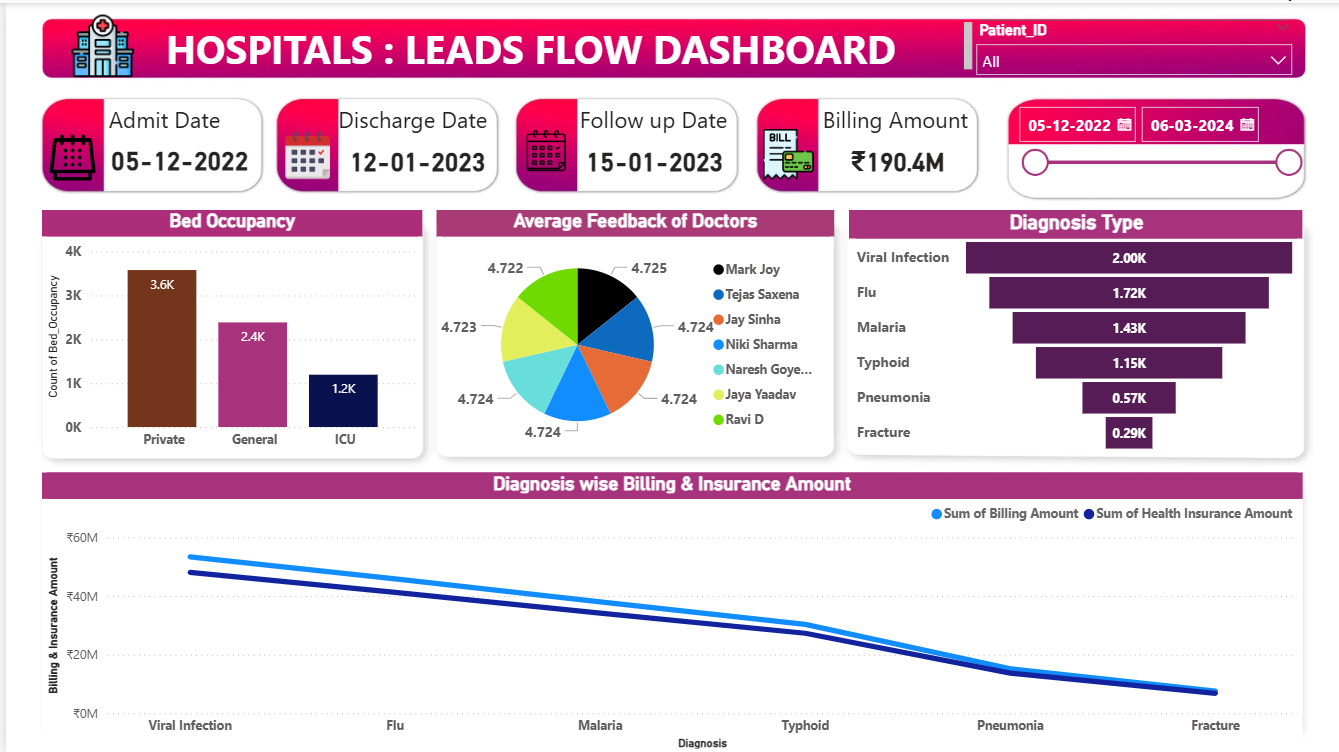

The dashboard page shown, as its layout file describes it:
{"tool":"powerbi","page":{"name":"HEALTHCARE","canvas":[1280,720],"ordinal":0},"visuals":[{"type":"card","fields":{"Values":["Sheet1.Admit_Date"]},"box":[93.9,125.7,145.4,50],"z":0},{"type":"textbox","box":[93.9,92.4,145.4,37.9],"z":1000},{"type":"textbox","box":[313.4,92.4,163.5,37.9],"z":2000},{"type":"textbox","box":[545.1,92.4,162,37.9],"z":3000},{"type":"card","fields":{"Values":["Sheet1.Discharge_Date"]},"box":[318,125.7,152.9,53],"z":4000},{"type":"card","fields":{"Values":["Sheet1.Followup Date"]},"box":[545.1,125.7,152.9,53],"z":5000},{"type":"textbox","box":[778.3,92.4,159,37.9],"z":6000},{"type":"card","fields":{"Values":["Sheet1.Billing Amount"]},"box":[778.3,125.7,152.9,53],"z":7000},{"type":"slicer","fields":{"Values":["Sheet1.Admit_Date"]},"box":[957,87.8,293.8,96.9],"z":8000},{"type":"columnChart","title":"Bed Occupancy","fields":{"Category":["Sheet1.Bed_Occupancy"],"Y":["Sheet1.Bed_Occupancy"]},"box":[34.8,198.4,364.9,237.7],"z":9000},{"type":"pieChart","title":"Average Feedback of Doctors","fields":{"Y":["Sheet1.Feedback"],"Category":["Sheet1.Doctor"]},"box":[413.4,198.4,381.6,237.7],"z":10000},{"type":"funnel","title":"Diagnosis Type","fields":{"Category":["Sheet1.Diagnosis"],"Y":["Sheet1.Diagnosis"]},"box":[808.6,198.4,434.6,237.7],"z":11000},{"type":"lineChart","title":"Diagnosis wise Billing & Insurance Amount","fields":{"Y":["Sheet1.Billing Amount","Sheet1.Health Insurance Amount"],"Category":["Sheet1.Diagnosis"]},"box":[34.8,449.7,1208.3,269.5],"z":12000},{"type":"slicer","fields":{"Values":["Sheet1.Patient_ID"]},"box":[920.6,13.6,322.5,57],"z":13000},{"type":"image","box":[720.8,112.1,59.1,66.6],"z":13001},{"type":"image","box":[28.8,5.8,128,70.5],"z":13002},{"type":"image","box":[34.8,121.1,59.1,54.5],"z":13003},{"type":"image","box":[260.4,116.6,57.5,59.1],"z":13004},{"type":"image","box":[492.1,112.1,51.5,59.1],"z":13005},{"type":"textbox","box":[133.3,13.6,798,57.5],"z":13006}]}

Visuals, with their boxes in screenshot pixels (x1, y1, x2, y2), scaled from the page's 1280x720 canvas onto the 1339x752 screenshot:
card - Sheet1.Admit_Date: 98:131:250:184
textbox: 98:97:250:136
textbox: 328:97:499:136
textbox: 570:97:740:136
card - Sheet1.Discharge_Date: 333:131:493:187
card - Sheet1.Followup Date: 570:131:730:187
textbox: 814:97:981:136
card - Sheet1.Billing Amount: 814:131:974:187
slicer - Sheet1.Admit_Date: 1001:92:1308:193
"Bed Occupancy" columnChart: 36:207:418:455
"Average Feedback of Doctors" pieChart: 432:207:832:455
"Diagnosis Type" funnel: 846:207:1301:455
"Diagnosis wise Billing & Insurance Amount" lineChart: 36:470:1300:751
slicer - Sheet1.Patient_ID: 963:14:1300:74
image: 754:117:816:187
image: 30:6:164:80
image: 36:126:98:183
image: 272:122:333:184
image: 515:117:569:179
textbox: 139:14:974:74
